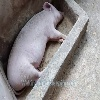heo: (2, 1, 71, 92)
